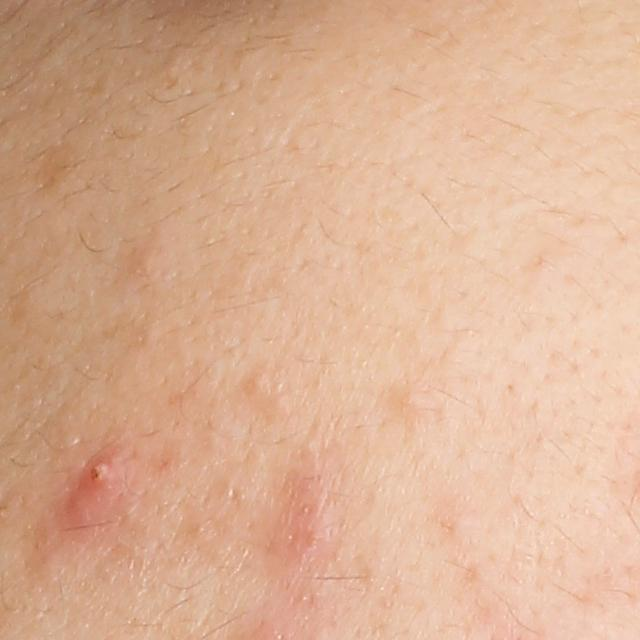comedo: (392, 381, 435, 417), (237, 369, 275, 408)
pustule: (72, 445, 129, 511)
